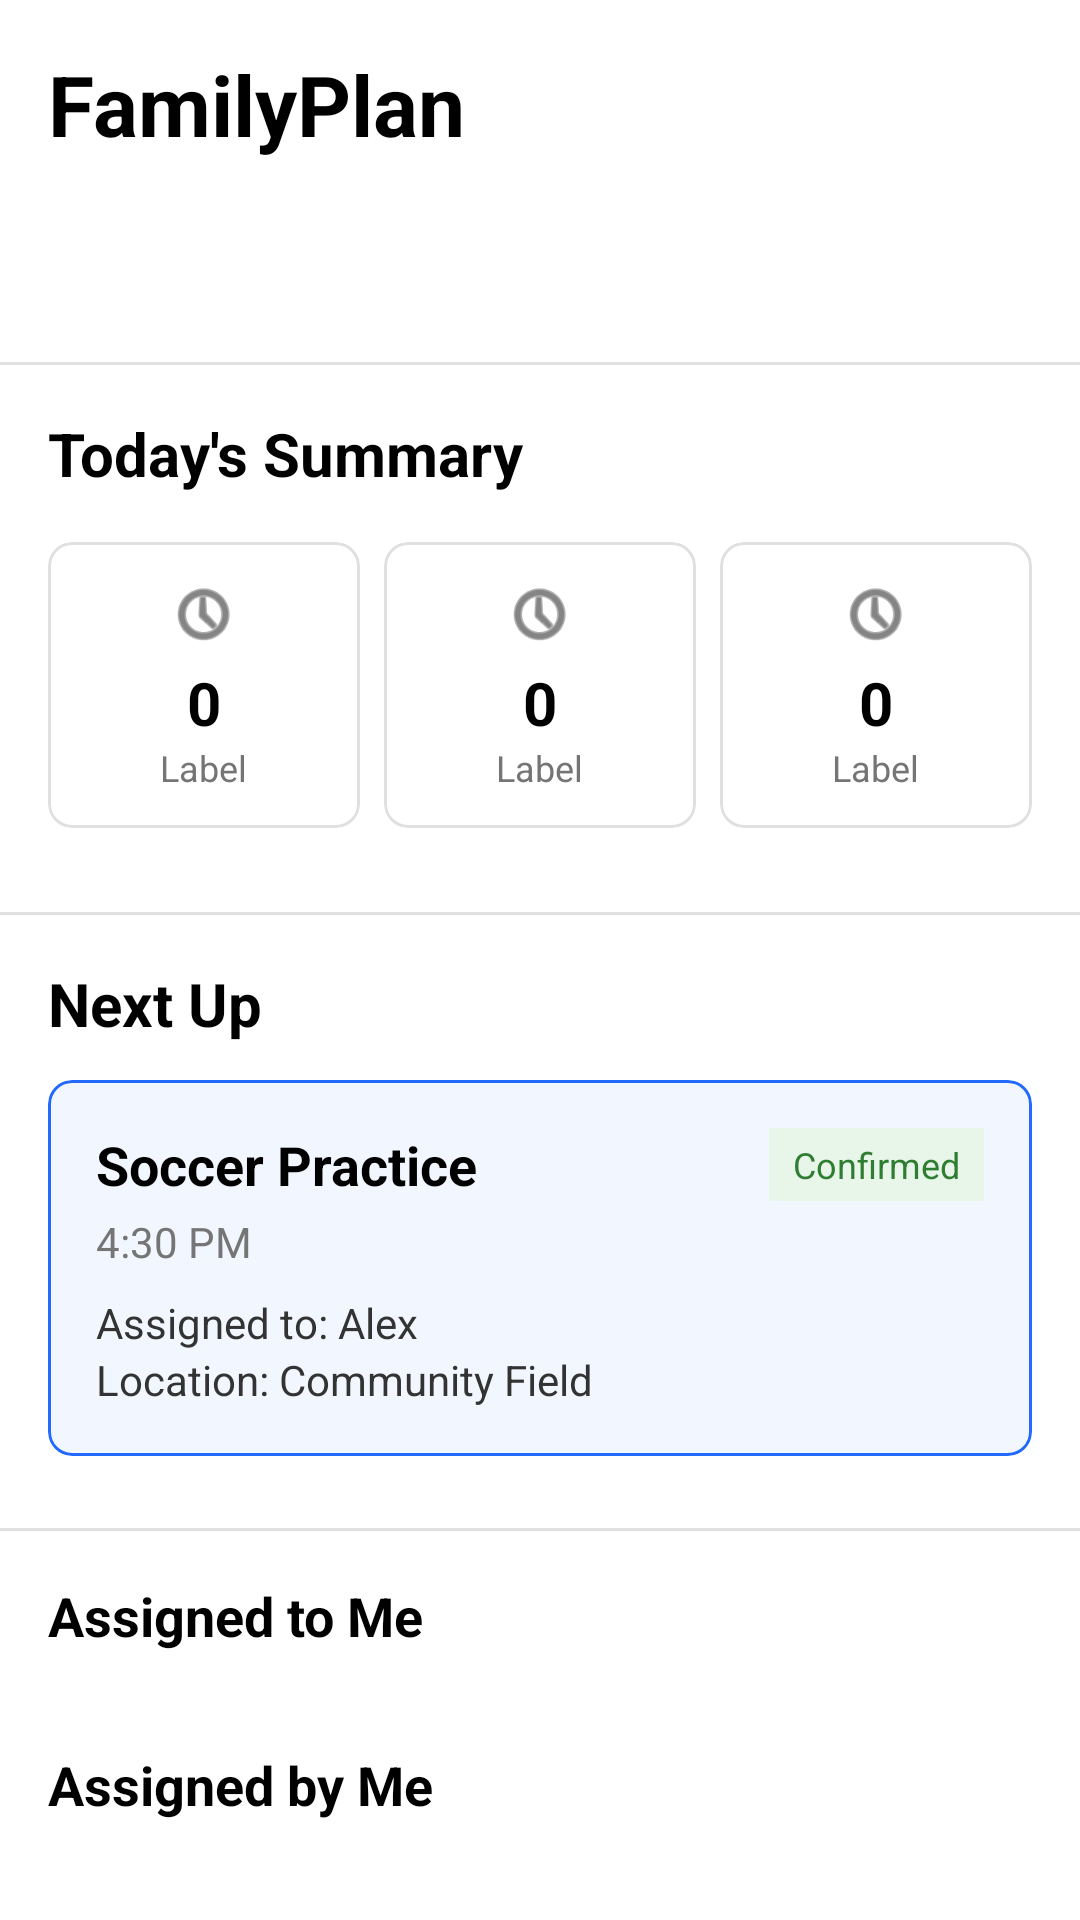

Screen size 1080 x 1920. Icon name, then its box in pixels as (x1, y1, x2, y2):
recent history: (178, 588, 230, 640), (514, 588, 566, 640), (850, 588, 902, 640)
